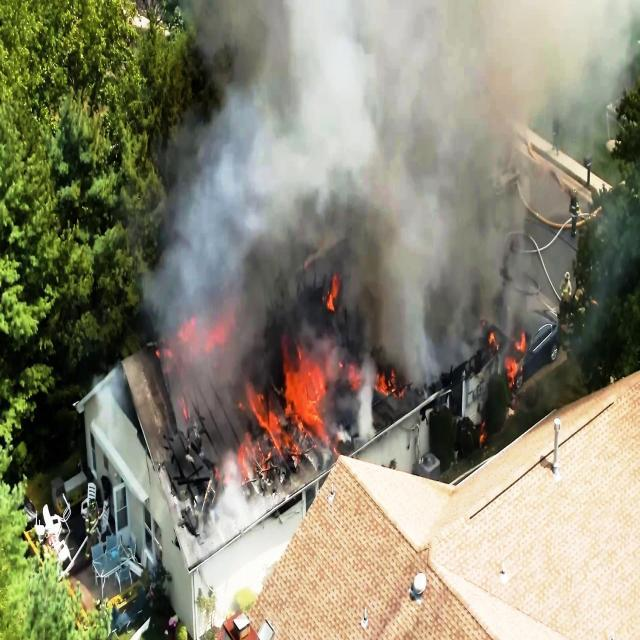Fire: (154, 270, 395, 492), (476, 322, 540, 400)
Smoke: (159, 0, 640, 254), (388, 262, 485, 381)
